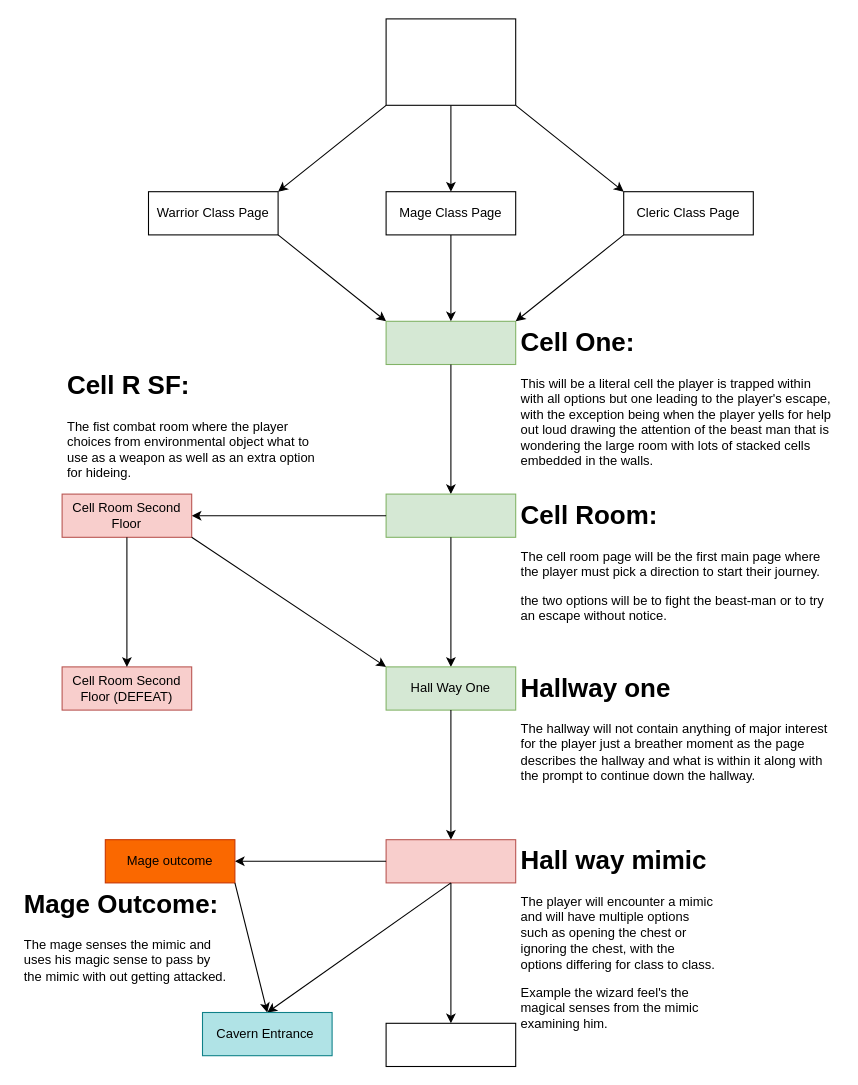
Image size: 858x1085. Some labels were removed from this diagram. The shapes that lost their labels are listed below. From the top down, each one's box as (x1, y1, x2, y2) in pixels, then its label:
(385, 18, 516, 105): Home page.
(385, 320, 516, 364): Cell One Page
(385, 493, 516, 537): Cell Room Page
(385, 839, 516, 883): Hall Way Chest
